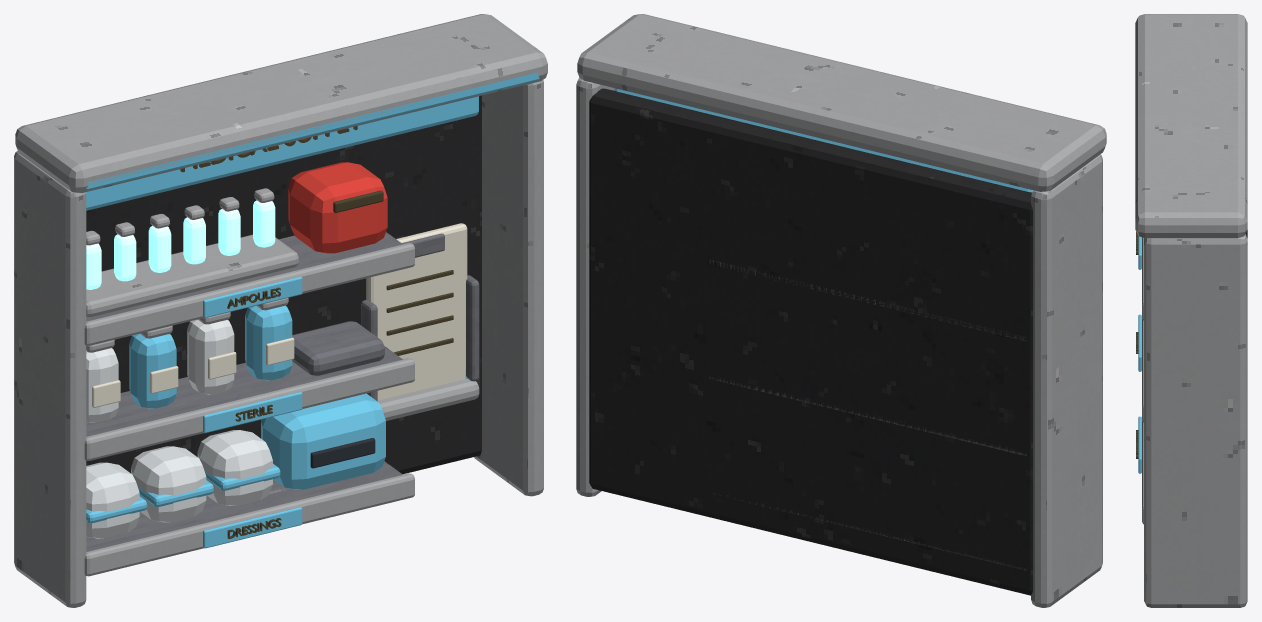
Rendered from decor_med_supply_shelf.glb.
The picture shows the model from 3 angles, left to right: view 1: azimuth 30°, elevation 25°; view 2: azimuth 150°, elevation 25°; view 3: azimuth 270°, elevation 25°; orthographic projection. The views are drawn at different scales.
Parts seen in each view (by area): view 1: DEC_MedSupplyShelf__Clean_Canopy, DEC_MedSupplyShelf__Backboard, DEC_MedSupplyShelf__Upright_1, DEC_MedSupplyShelf__Upright_2, DEC_MedSupplyShelf__Chart_Board, DEC_MedSupplyShelf__Glove_Box, DEC_MedSupplyShelf__Header, DEC_MedSupplyShelf__Sharps_Bin, DEC_MedSupplyShelf__Ampoule_Rack, DEC_MedSupplyShelf__Tray_Lip_3, DEC_MedSupplyShelf__Tray_Lip_2, DEC_MedSupplyShelf__Tray_Lip_1 (+26 smaller); view 2: DEC_MedSupplyShelf__Backboard, DEC_MedSupplyShelf__Clean_Canopy, DEC_MedSupplyShelf__Upright_1, DEC_MedSupplyShelf__Upright_2, DEC_MedSupplyShelf__Header; view 3: DEC_MedSupplyShelf__Upright_2, DEC_MedSupplyShelf__Clean_Canopy, DEC_MedSupplyShelf__Tray_Label_1, DEC_MedSupplyShelf__Tray_Label_2, DEC_MedSupplyShelf__Tray_Lip_1, DEC_MedSupplyShelf__Tray_Lip_2.
Part boxes in pixels (x1,y1,x2,y2): DEC_MedSupplyShelf__Clean_Canopy: (15, 14, 547, 192); DEC_MedSupplyShelf__Backboard: (86, 95, 481, 474); DEC_MedSupplyShelf__Upright_1: (14, 151, 86, 607); DEC_MedSupplyShelf__Upright_2: (474, 80, 543, 496); DEC_MedSupplyShelf__Chart_Board: (366, 223, 467, 400); DEC_MedSupplyShelf__Glove_Box: (261, 393, 385, 489); DEC_MedSupplyShelf__Header: (86, 96, 478, 210); DEC_MedSupplyShelf__Sharps_Bin: (288, 162, 387, 253); DEC_MedSupplyShelf__Ampoule_Rack: (86, 234, 298, 316); DEC_MedSupplyShelf__Tray_Lip_3: (84, 243, 414, 345); DEC_MedSupplyShelf__Tray_Lip_2: (84, 358, 414, 460); DEC_MedSupplyShelf__Tray_Lip_1: (84, 473, 414, 576); DEC_MedSupplyShelf__Backboard: (589, 88, 1032, 595); DEC_MedSupplyShelf__Clean_Canopy: (577, 14, 1106, 191); DEC_MedSupplyShelf__Upright_1: (1031, 154, 1102, 607); DEC_MedSupplyShelf__Upright_2: (576, 77, 614, 496); DEC_MedSupplyShelf__Header: (614, 88, 1032, 192); DEC_MedSupplyShelf__Upright_2: (1144, 234, 1247, 607); DEC_MedSupplyShelf__Clean_Canopy: (1135, 14, 1247, 238); DEC_MedSupplyShelf__Tray_Label_1: (1138, 416, 1141, 473); DEC_MedSupplyShelf__Tray_Label_2: (1138, 314, 1141, 371); DEC_MedSupplyShelf__Tray_Lip_1: (1142, 420, 1143, 524); DEC_MedSupplyShelf__Tray_Lip_2: (1142, 318, 1143, 422).
Bounding box in the file's own units: 1.65 × 1.47 × 0.38.
Materials: 10 (3 with a texture image).
